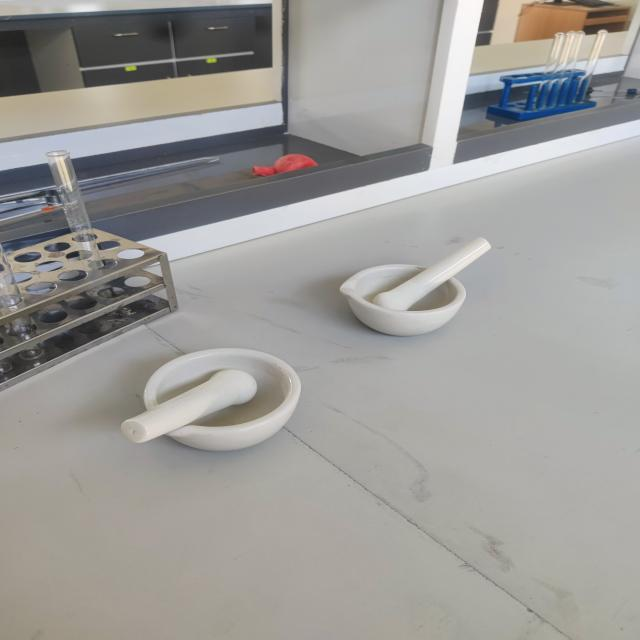Porcelain_Mortar Pestle: (101, 328, 321, 474), (314, 229, 519, 347)
